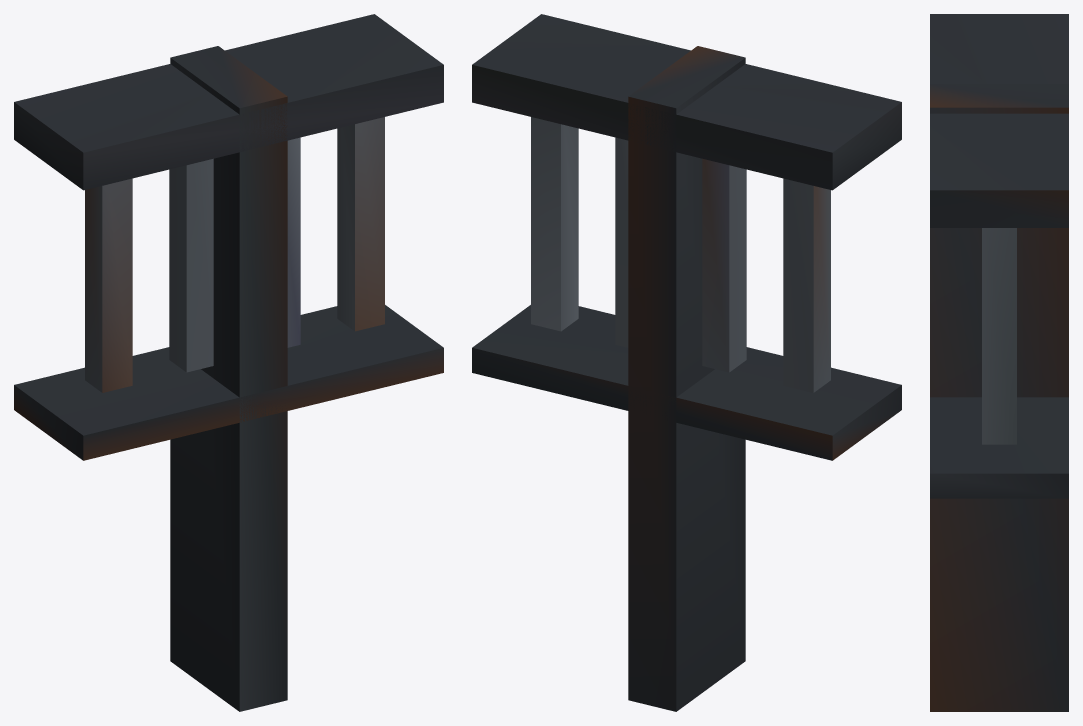
Rendered from rack.glb.
The picture shows the model from 3 angles, left to right: view 1: azimuth 30°, elevation 25°; view 2: azimuth 150°, elevation 25°; view 3: azimuth 270°, elevation 25°; orthographic projection.
Parts seen in each view (by area): view 1: rack; view 2: rack; view 3: rack.
Boxes of the visible parts, <box> form: rack: <box>14,14,443,711</box>; rack: <box>472,14,901,711</box>; rack: <box>930,14,1068,711</box>.
Size of the model in its own units: 30 by 48 by 10.
